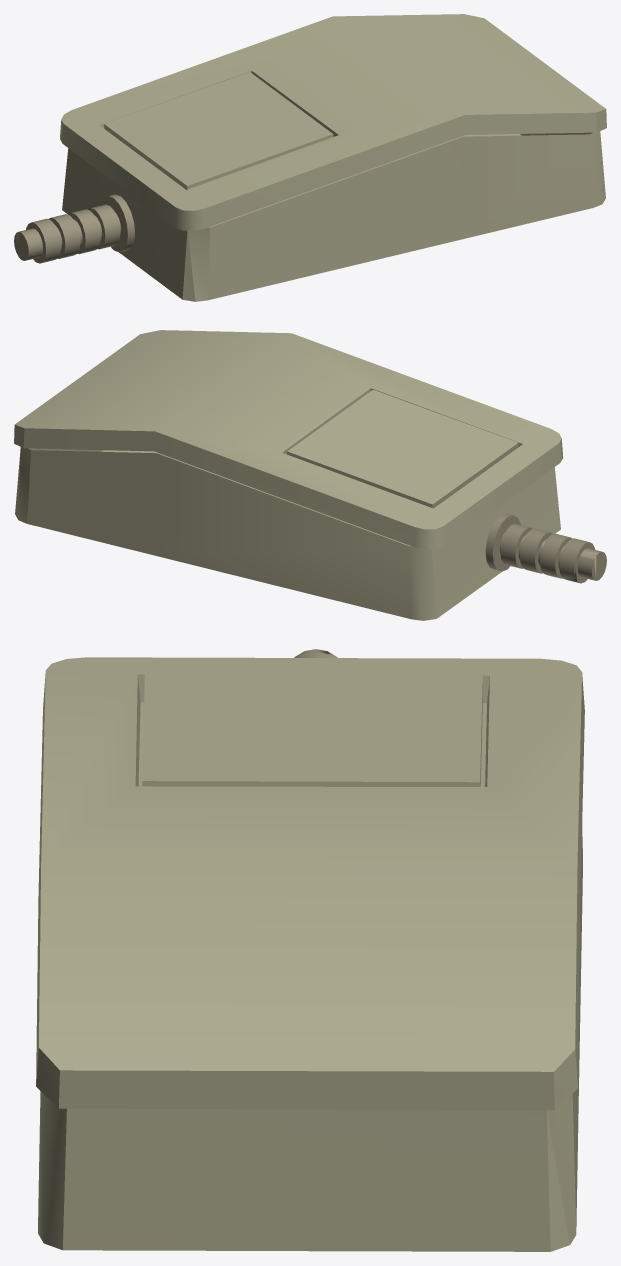
The model's file is macintosh_Souris.glb.
The picture shows the model from 3 angles, top to bottom: view 1: azimuth 30°, elevation 25°; view 2: azimuth 150°, elevation 25°; view 3: azimuth 270°, elevation 25°; orthographic projection. The views are drawn at different scales.
Visible parts, largest first — view 1: Plane.001_Apple-0_0; view 2: Plane.001_Apple-0_0; view 3: Plane.001_Apple-0_0.
Boxes of the visible parts, x1,y1,x2,y2 form: Plane.001_Apple-0_0: [14, 14, 606, 301]; Plane.001_Apple-0_0: [14, 330, 606, 620]; Plane.001_Apple-0_0: [36, 649, 584, 1251].
Size of the model in its own units: 0.1146 by 0.0261 by 0.0521.
